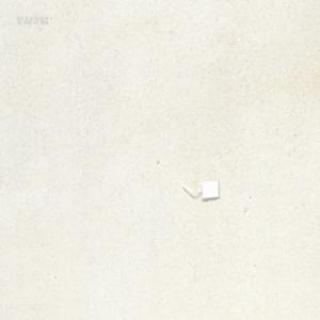LuggageTagtrack_idkeyframe: (180, 178, 218, 200)
